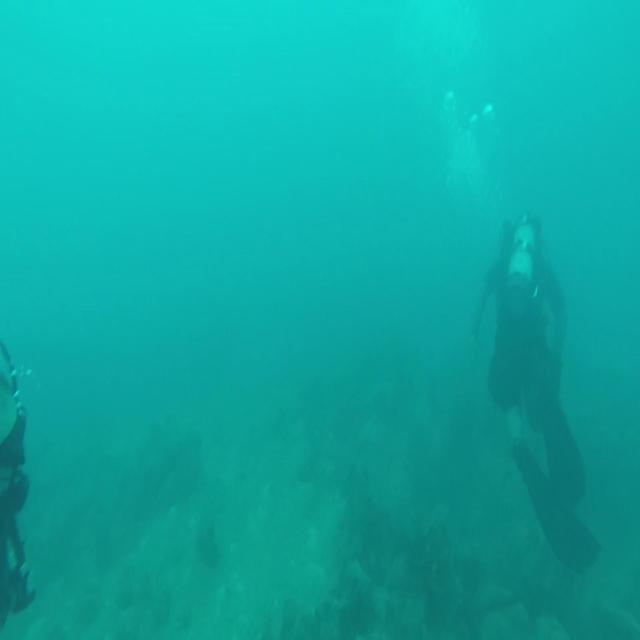human: (468, 208, 602, 574), (0, 338, 37, 629)
